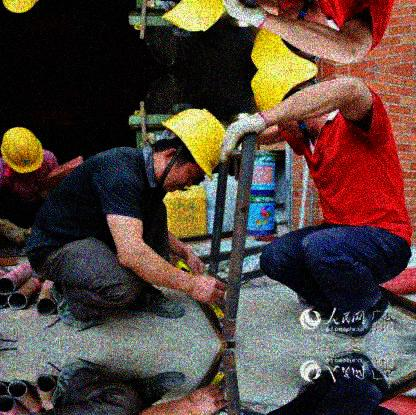helmet: (139, 107, 226, 195), (248, 66, 326, 142), (246, 1, 327, 63)
